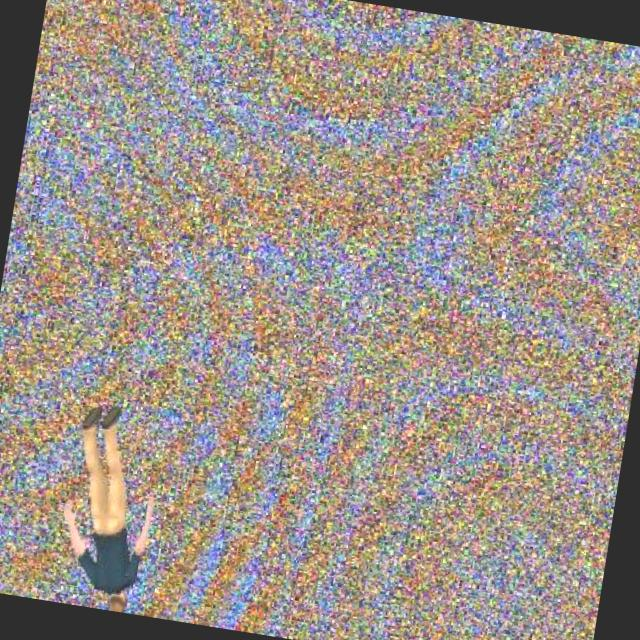Person: (46, 393, 173, 614)
